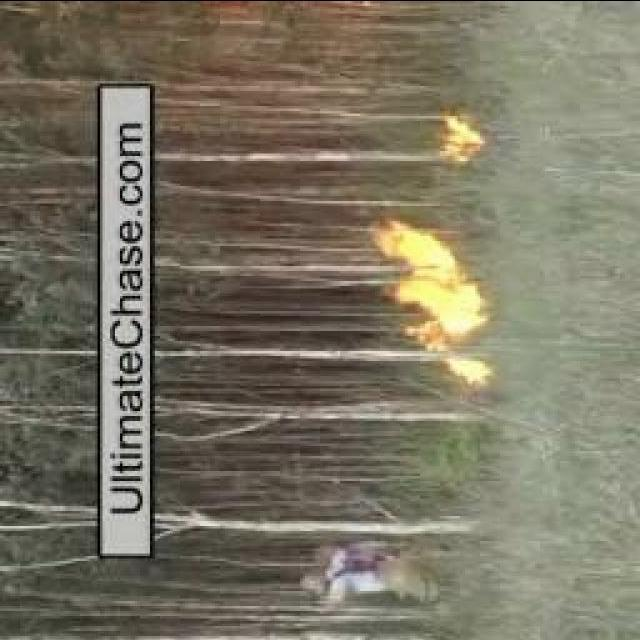Fire: (376, 216, 486, 338), (445, 98, 493, 162), (436, 350, 504, 386)
